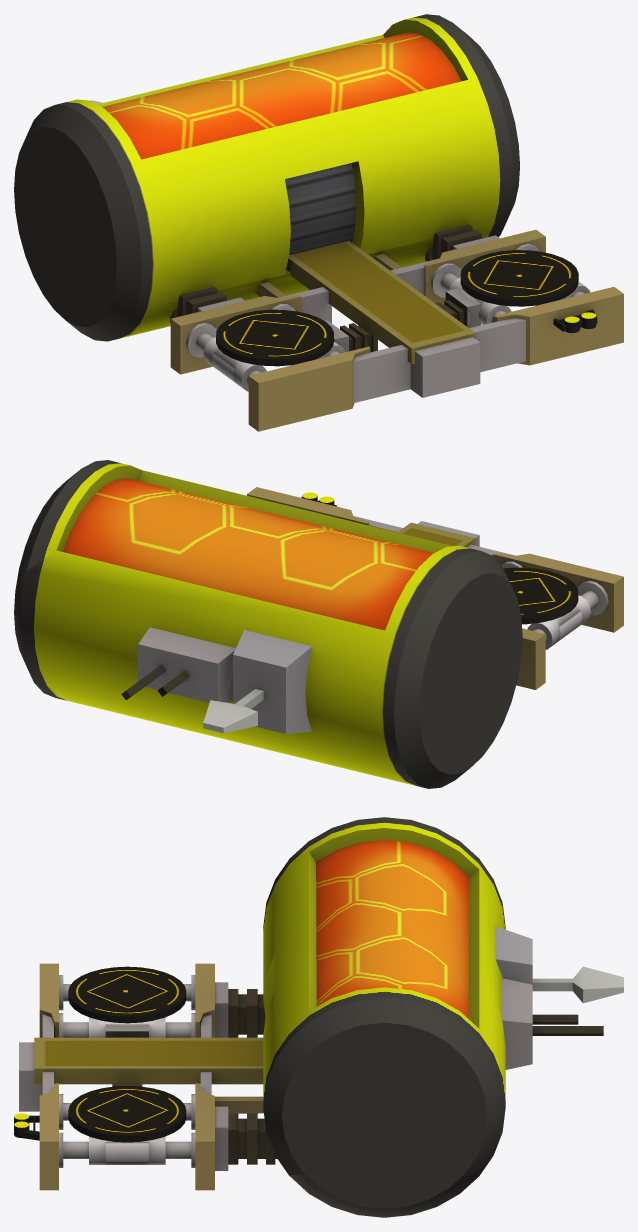
The model's file is station.FBX.
The picture shows the model from 3 angles, top to bottom: view 1: azimuth 30°, elevation 25°; view 2: azimuth 150°, elevation 25°; view 3: azimuth 270°, elevation 25°; orthographic projection.
Parts seen in each view (by area): view 1: Cylinder002; view 2: Cylinder002; view 3: Cylinder002.
Boxes of the visible parts, bbox=[...] form: Cylinder002: bbox=[14, 14, 623, 431]; Cylinder002: bbox=[14, 460, 623, 788]; Cylinder002: bbox=[14, 817, 623, 1217].
Bounding box in the file's own units: 464 × 242 × 609.
